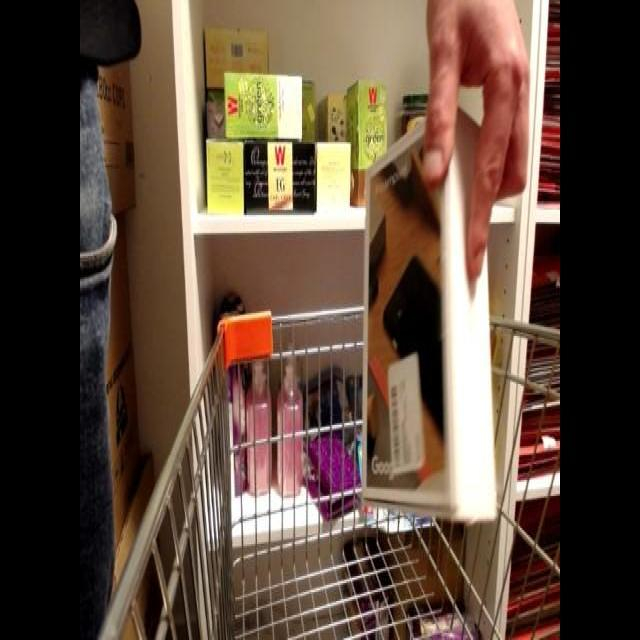Pixel 4: (355, 79, 522, 531)
